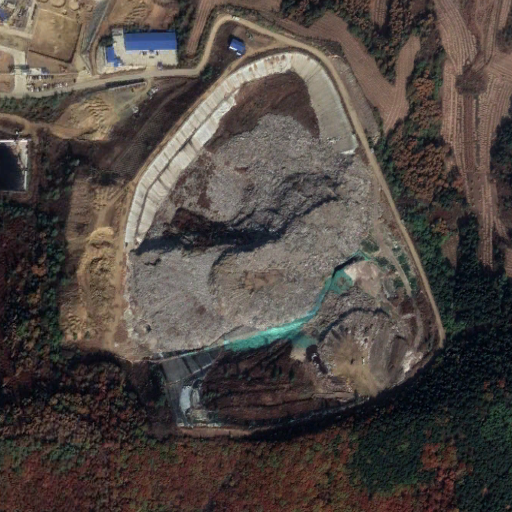lf: (131, 51, 439, 432)
